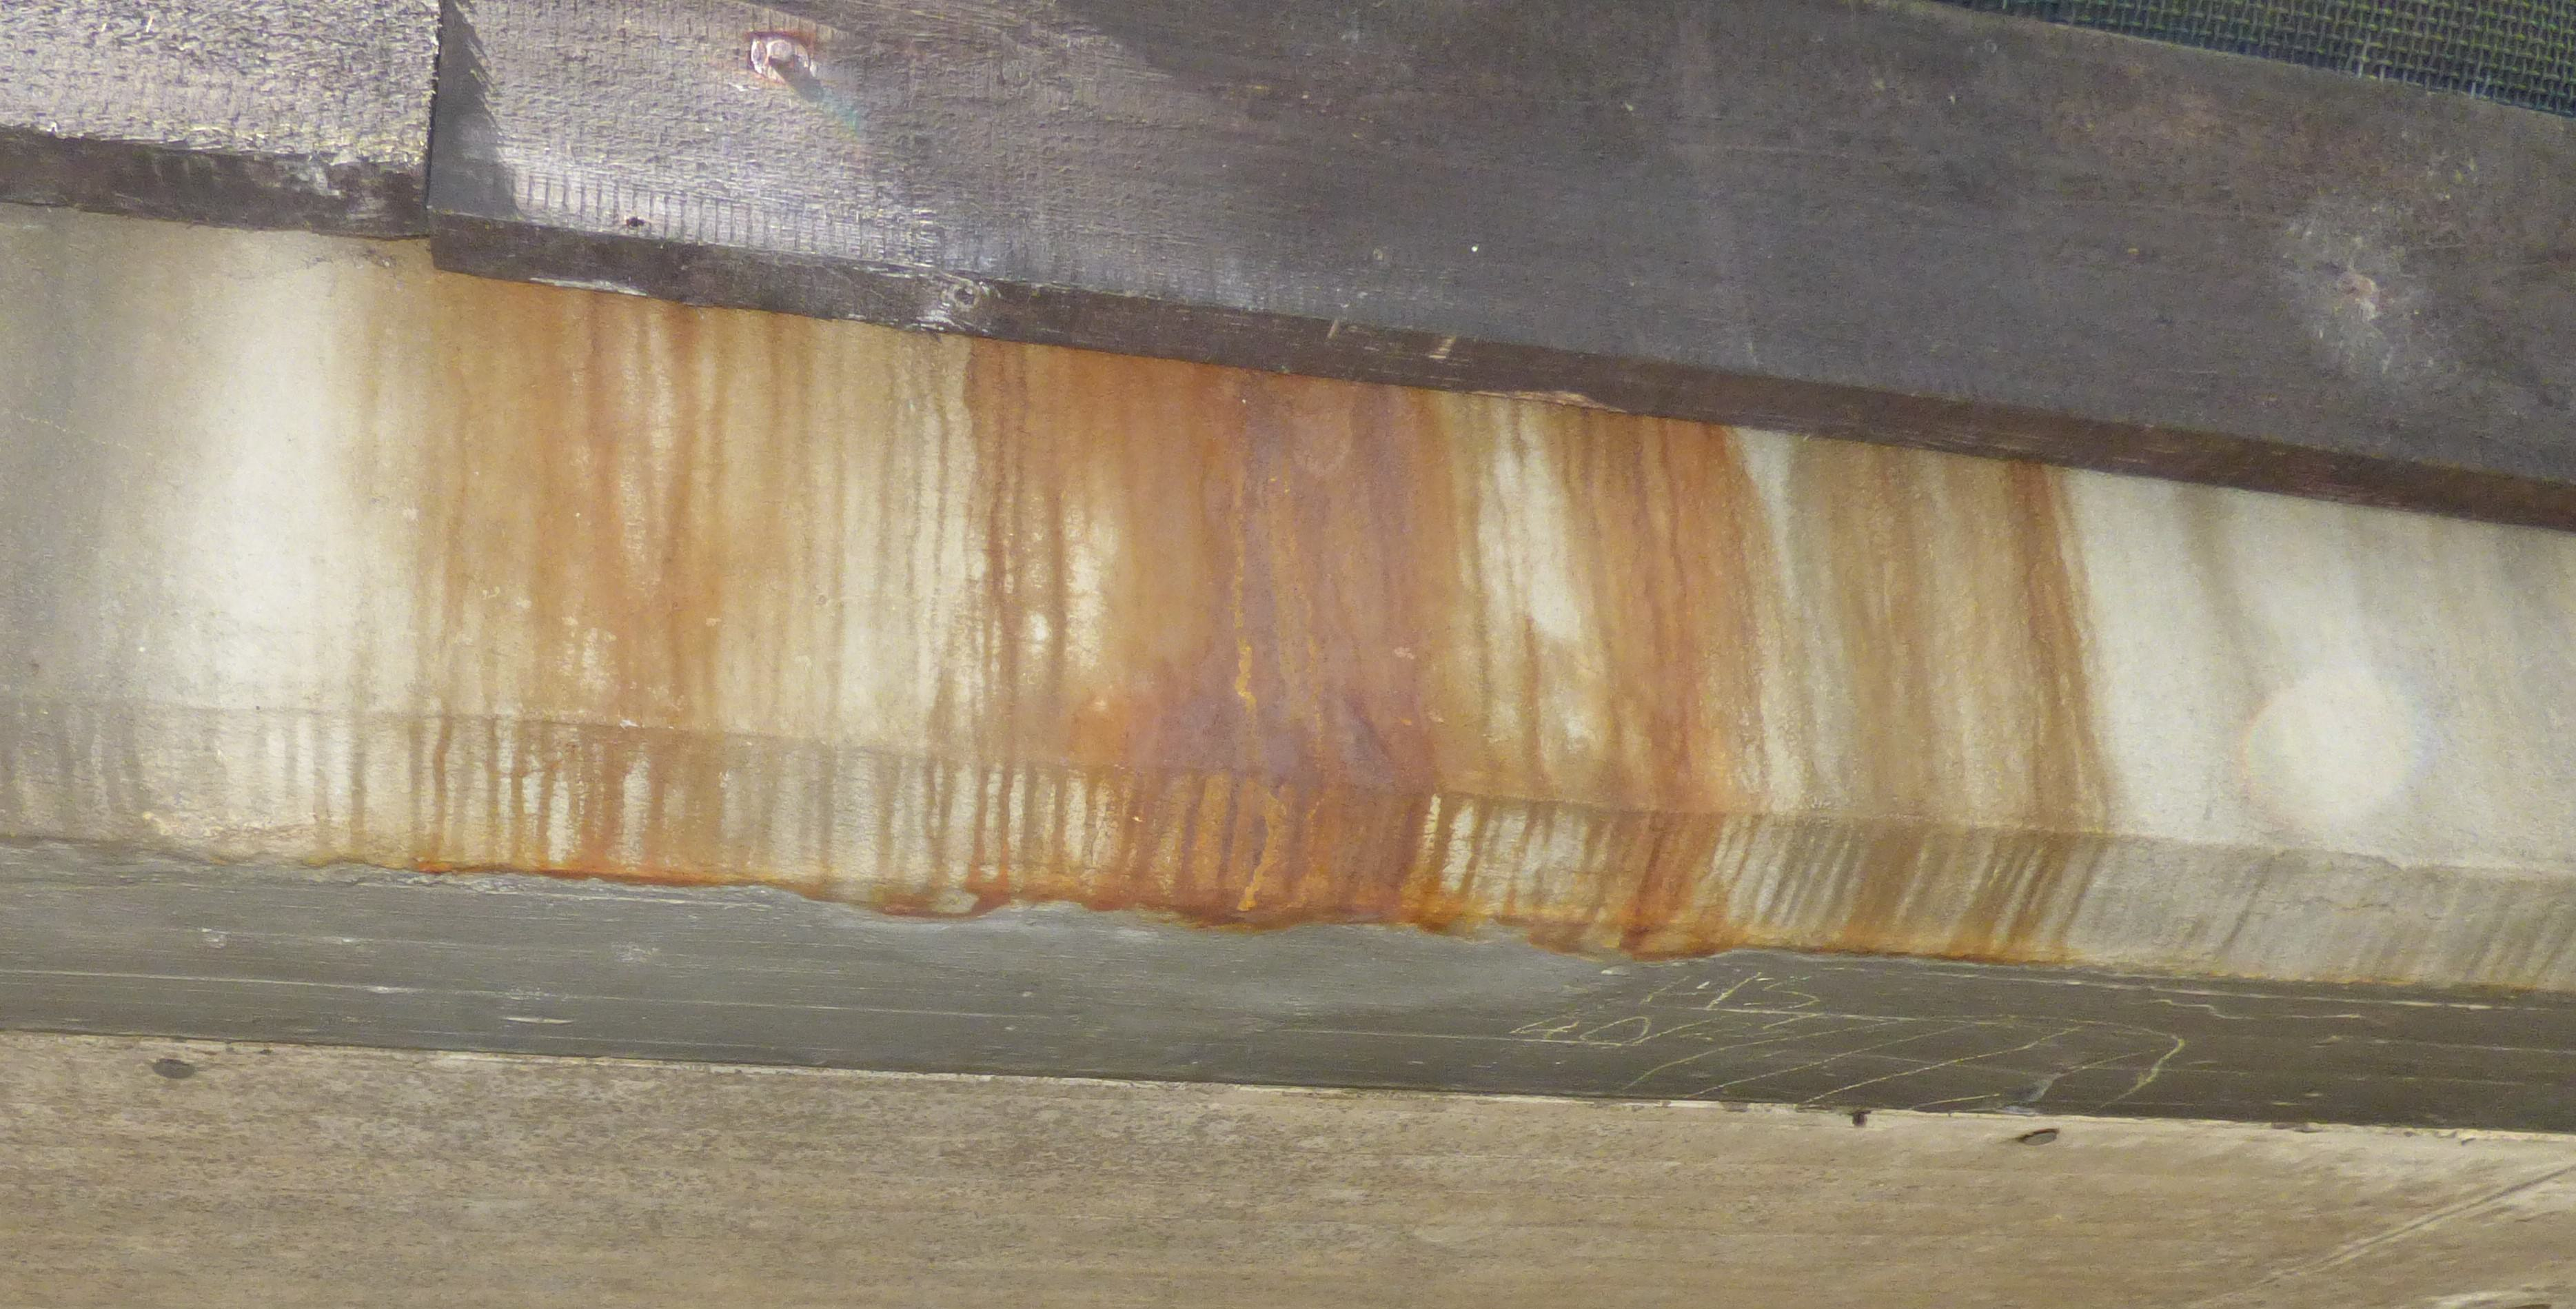Corrosion: (290, 260, 2124, 965)
